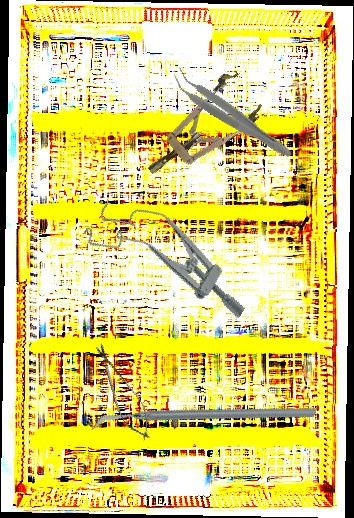Chopper: (90, 332, 318, 506)
Micro Scissor: (85, 338, 160, 447)
Speculum: (80, 183, 265, 331), (131, 66, 269, 193)
Tissue Forceps: (167, 66, 298, 163)
